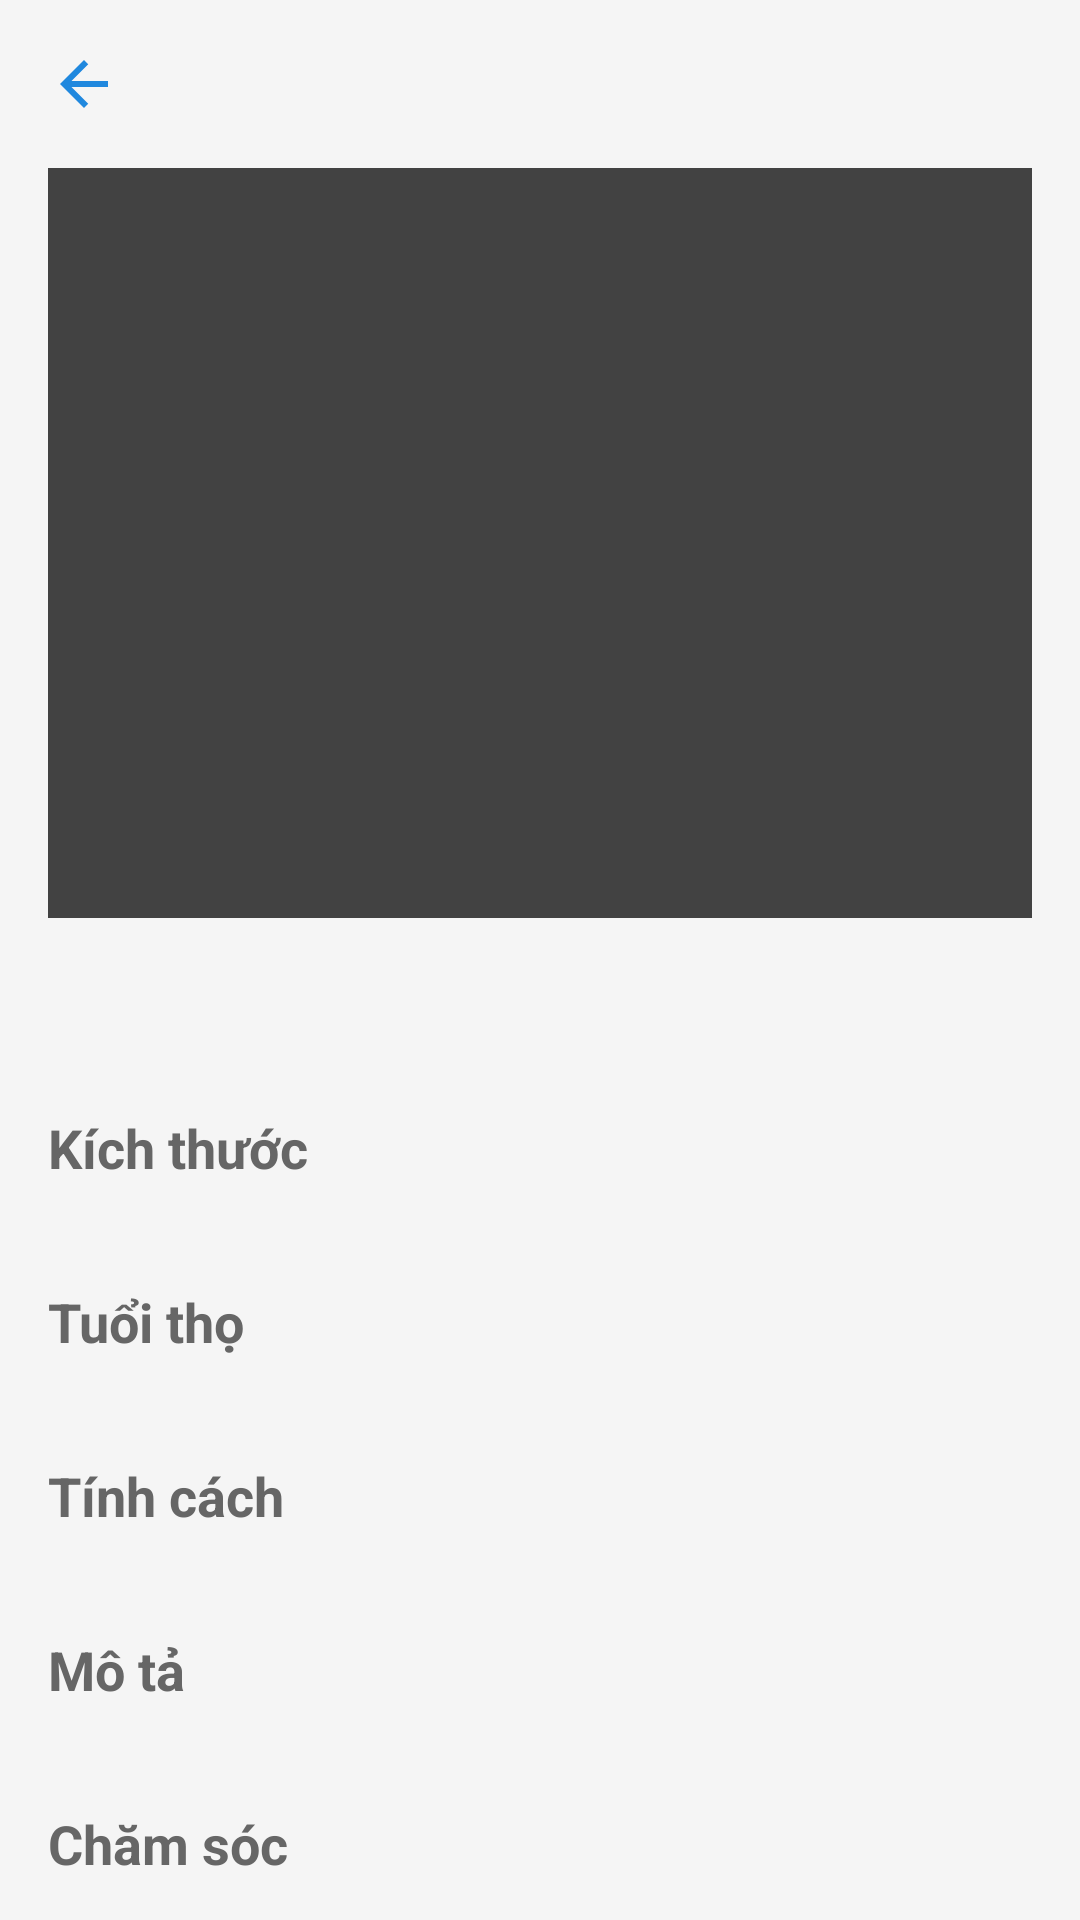

Point at icon controls on the screen. Image size 1080px x 1920px, points as (x,y).
Quay lại: (84,84)
